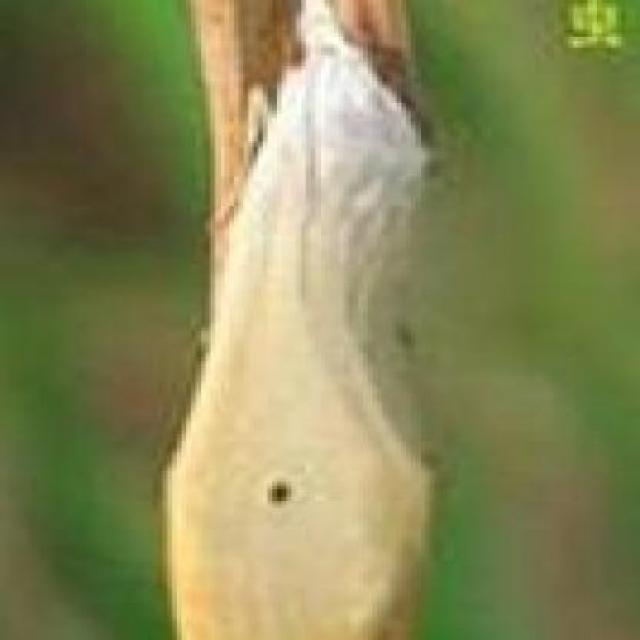stem-borer: (165, 0, 440, 640)
